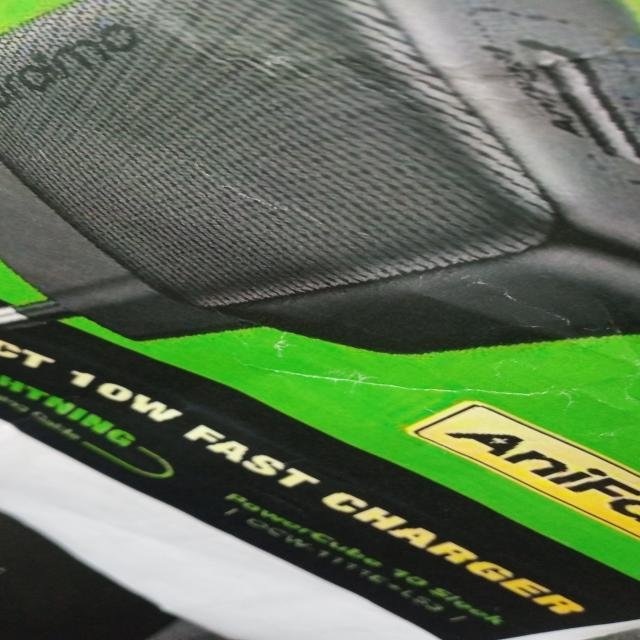PowerCube 10 Sleek OCW-1111ExL53: (203, 487, 536, 639)
